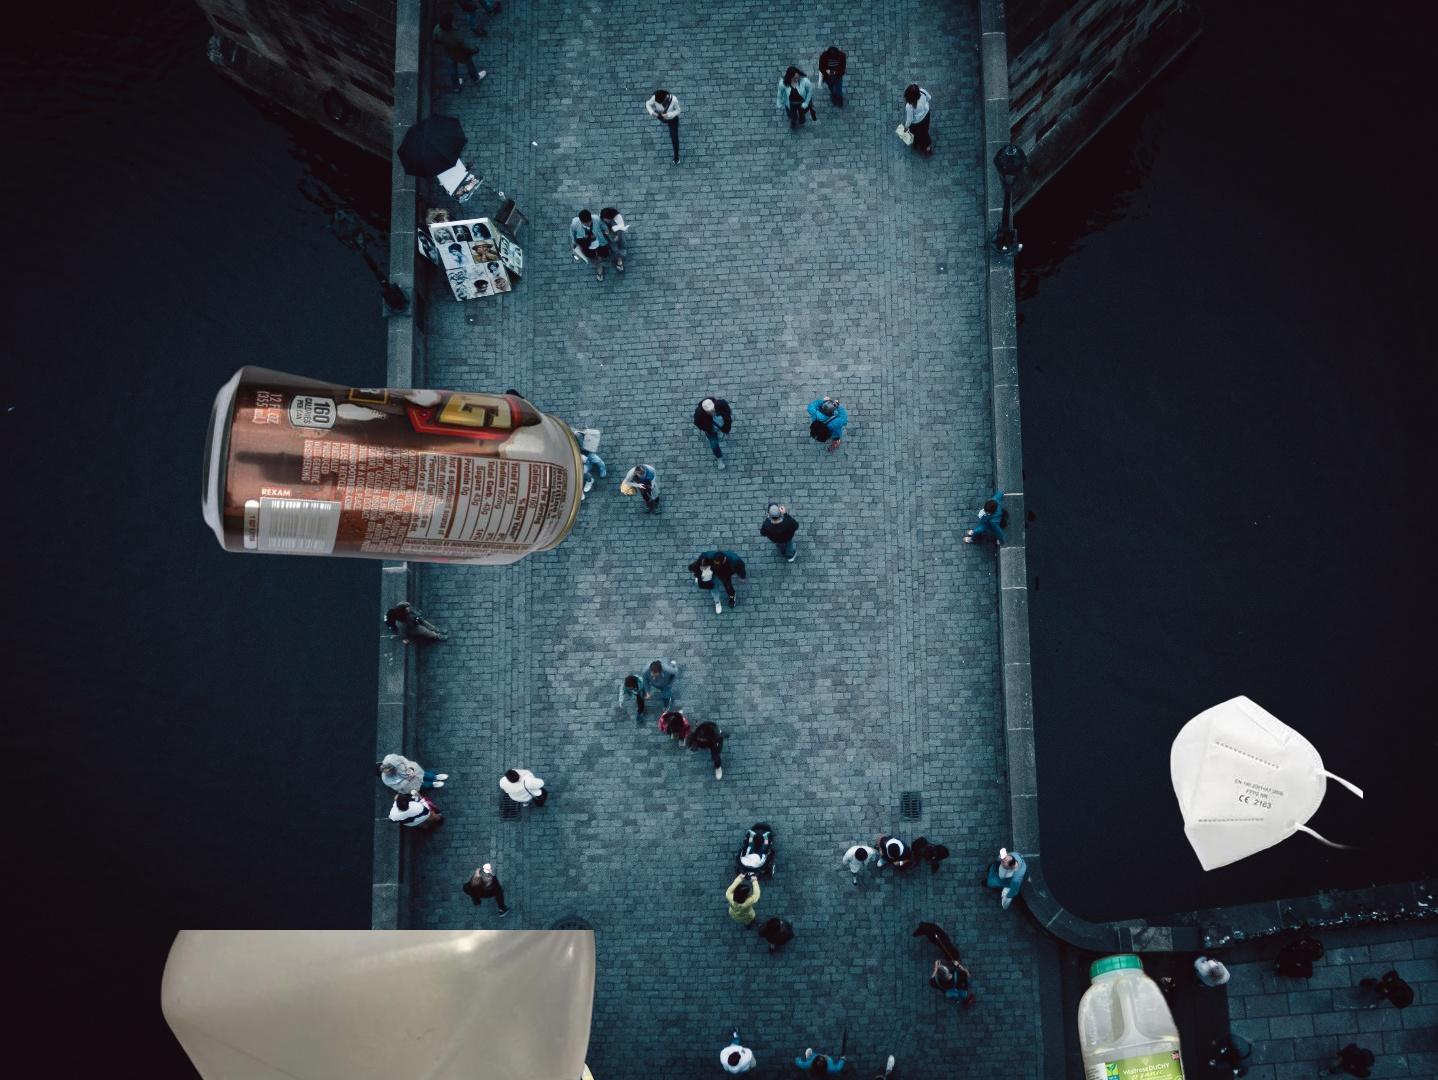metal-cans: (194, 361, 589, 568)
plastic-bottles: (157, 930, 601, 1080), (906, 947, 1198, 1080), (526, 1039, 651, 1080)
trash: (1167, 692, 1363, 874)
